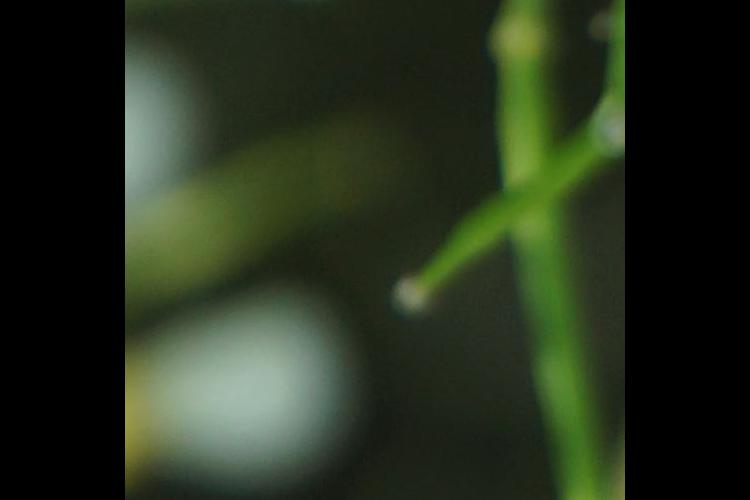pod: (390, 133, 601, 334)
